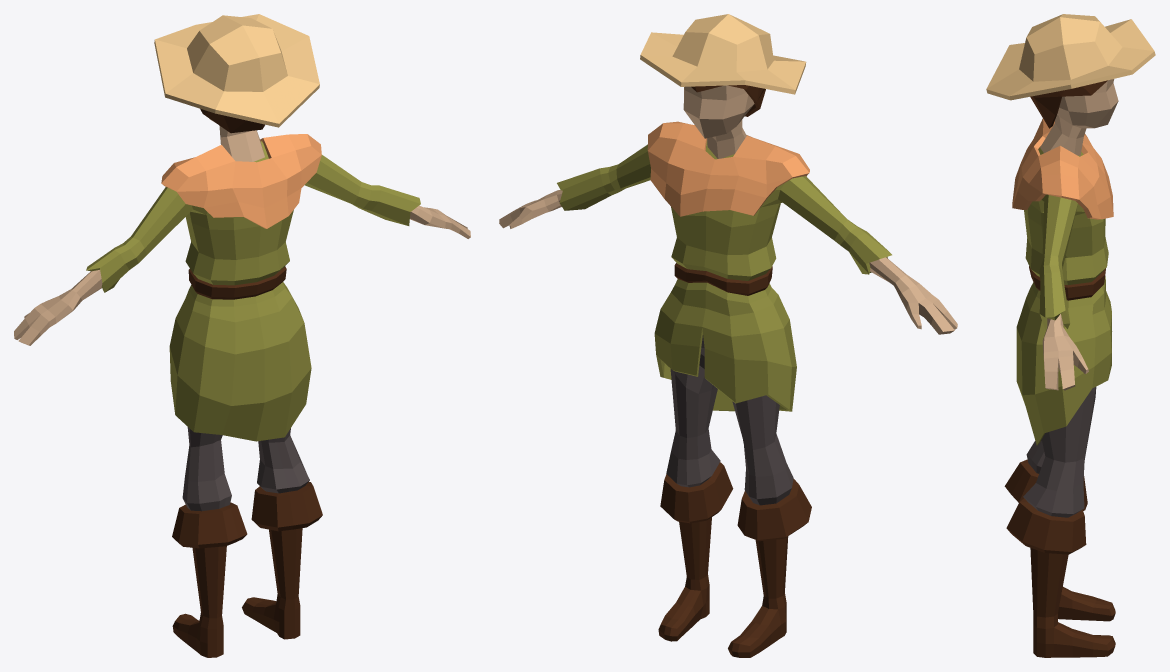
Rendered from Brolic.fbx.
3 renders of one model, left to right at view 1: azimuth 30°, elevation 25°; view 2: azimuth 150°, elevation 25°; view 3: azimuth 270°, elevation 25°, orthographic.
Parts seen in each view (by area): view 1: base, hat, poncho, hair; view 2: base, poncho, hat; view 3: base, hat, poncho, hair.
Boxes of the visible parts, <box> form: base: <box>14,118,470,657</box>; hat: <box>154,14,319,127</box>; poncho: <box>161,134,321,228</box>; hair: <box>200,109,264,133</box>; base: <box>499,85,957,657</box>; poncho: <box>647,121,809,216</box>; hat: <box>640,14,806,94</box>; base: <box>1004,79,1118,657</box>; hat: <box>986,14,1155,100</box>; poncho: <box>1012,118,1113,219</box>; hair: <box>1030,80,1107,128</box>.
Size of the model in its own units: 0.8053 by 1.04 by 0.2586.
